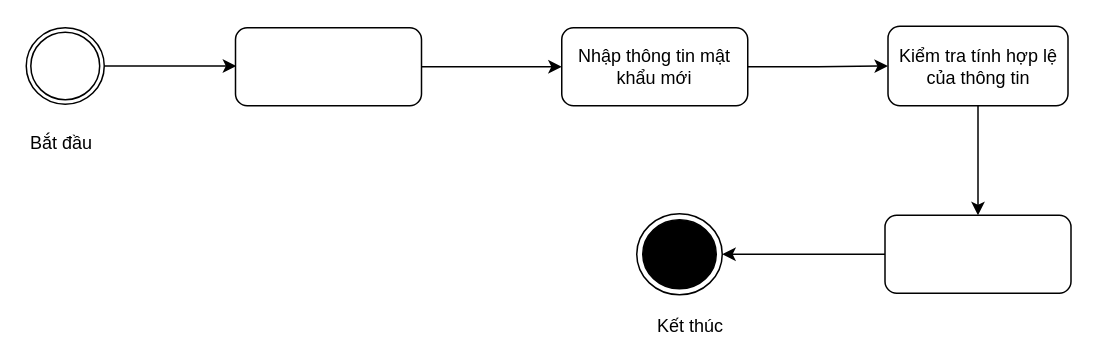
Image size: 1098x363. Some labels were removed from this diagram. The shapes that lost their labels are listed below. From the top down, each one's centre as x and y in pixels, then its label:
the point at 328,66: Đăng nhập tài khoản
the point at 977,253: Thông báo kết quả đổi mật khẩu
